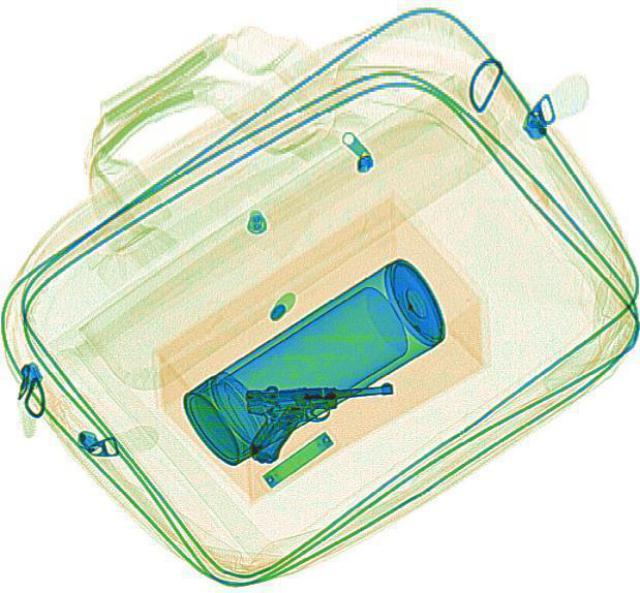Gun: (242, 379, 396, 461)
